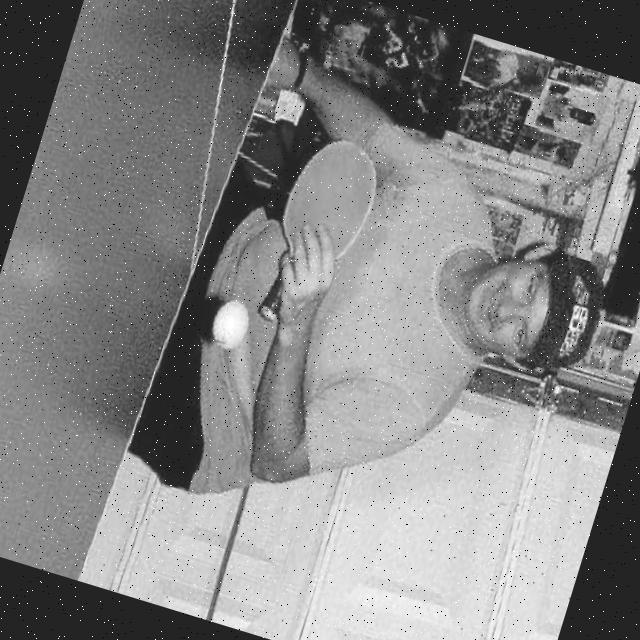ping-pong-ball: (206, 295, 256, 355)
